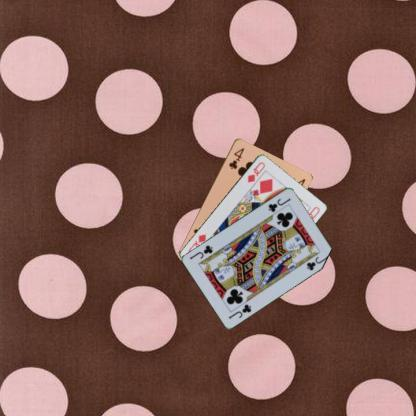4c: (226, 145, 246, 170)
Jc: (225, 301, 252, 320), (266, 195, 292, 213)
Qd: (244, 159, 266, 184)
